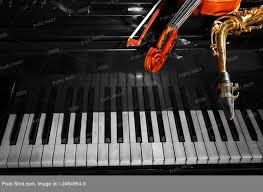Piano: (2, 78, 263, 192)
Saxophone: (199, 1, 263, 113)
Violin: (109, 1, 254, 73)
